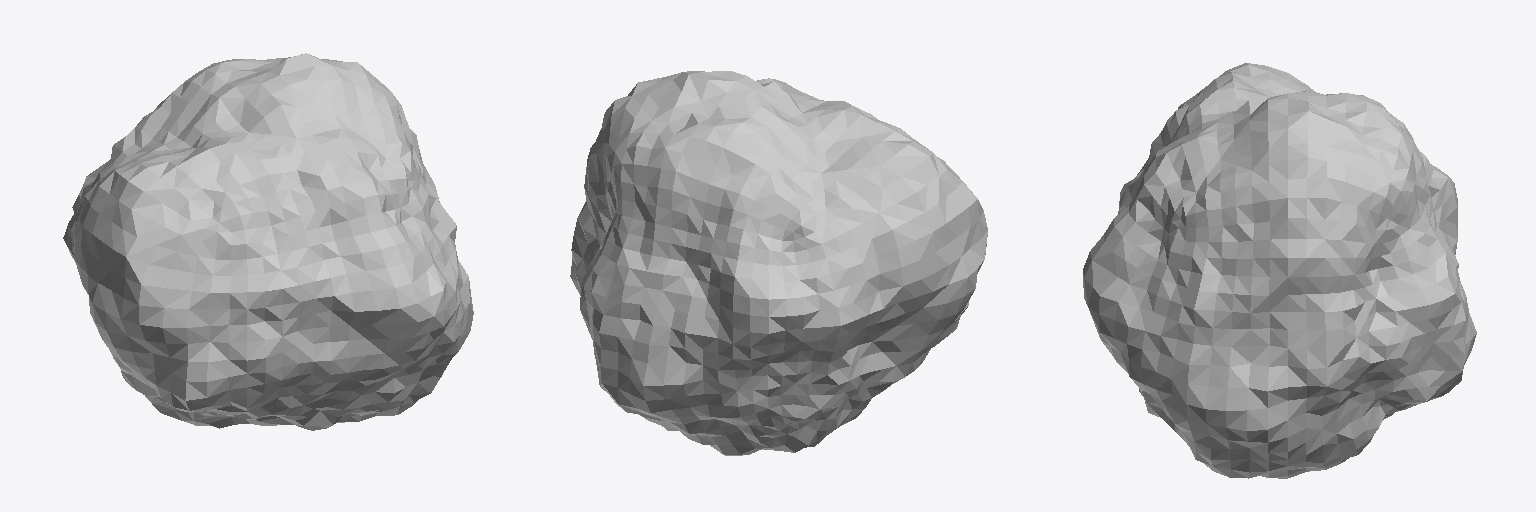
Rendered from rock_4.obj.
3 renders of one model, left to right at view 1: azimuth 30°, elevation 25°; view 2: azimuth 150°, elevation 25°; view 3: azimuth 270°, elevation 25°, orthographic.
Parts seen in each view (by area): view 1: Cube.001_Cube.002; view 2: Cube.001_Cube.002; view 3: Cube.001_Cube.002.
Part boxes in pixels (bbox=[...]): Cube.001_Cube.002: bbox=[63, 53, 473, 430]; Cube.001_Cube.002: bbox=[570, 71, 987, 455]; Cube.001_Cube.002: bbox=[1083, 63, 1476, 478].
Bounding box in the file's own units: 3.64 × 3.37 × 3.42.